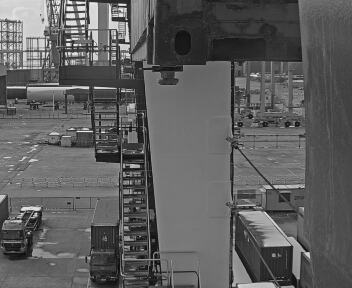twist_lock_1: (148, 61, 188, 91)
